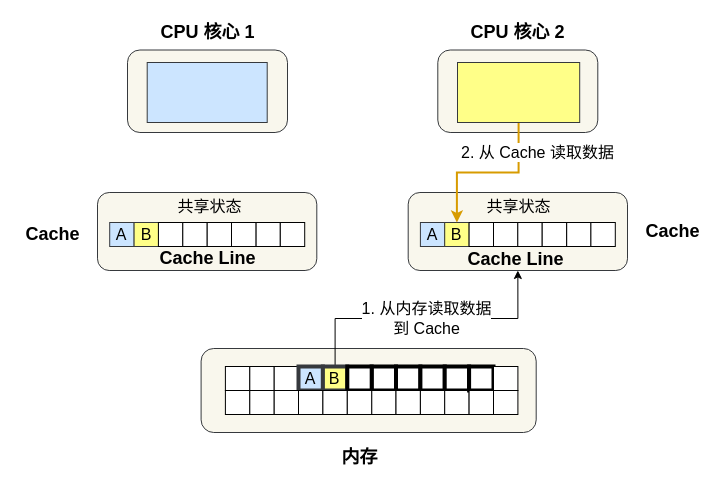
The diagram is 724 pixels wide and 489 high, and some of its shapes have lost their labels. The shapes that lost their labels are listed below. From the top down, each one's box as (x1, y1, x2, y2) in pixels, then its label:
(146, 62, 267, 122): A 线程
(456, 62, 580, 122): B 线程
